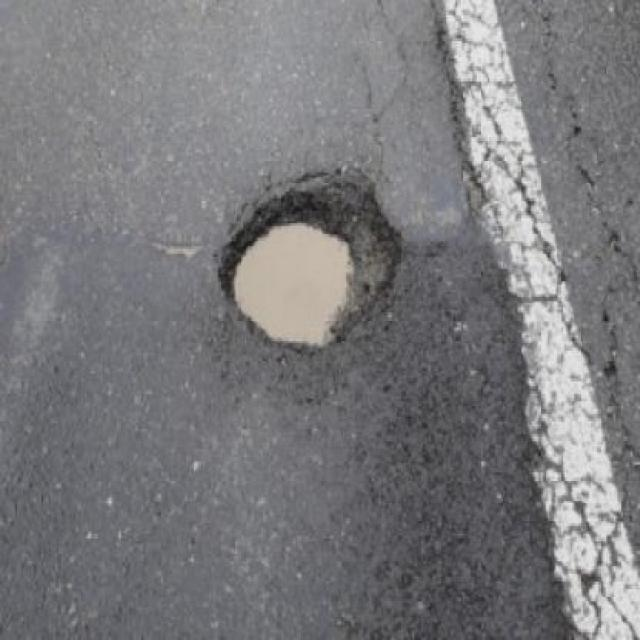Pothole: (208, 172, 404, 356)
